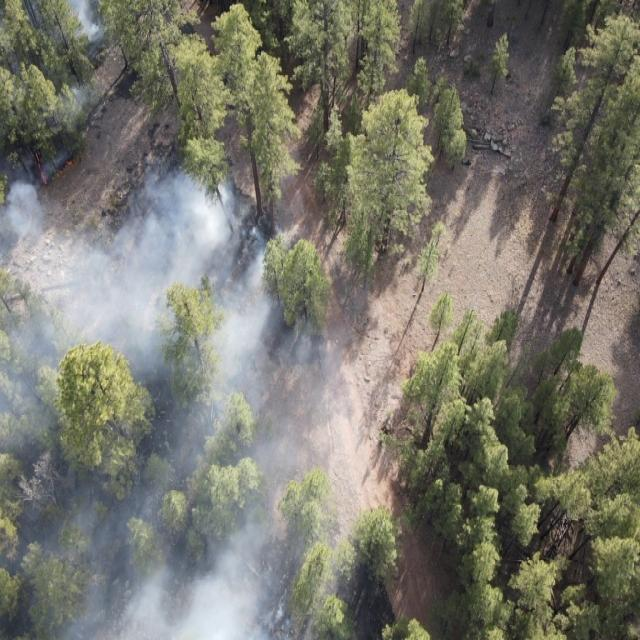fire: (30, 148, 50, 188), (48, 156, 80, 178)
smoke: (0, 145, 365, 639), (0, 0, 115, 138)
